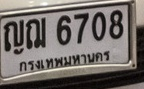txt09: (24, 15, 48, 50)
txt10: (3, 19, 25, 55)
